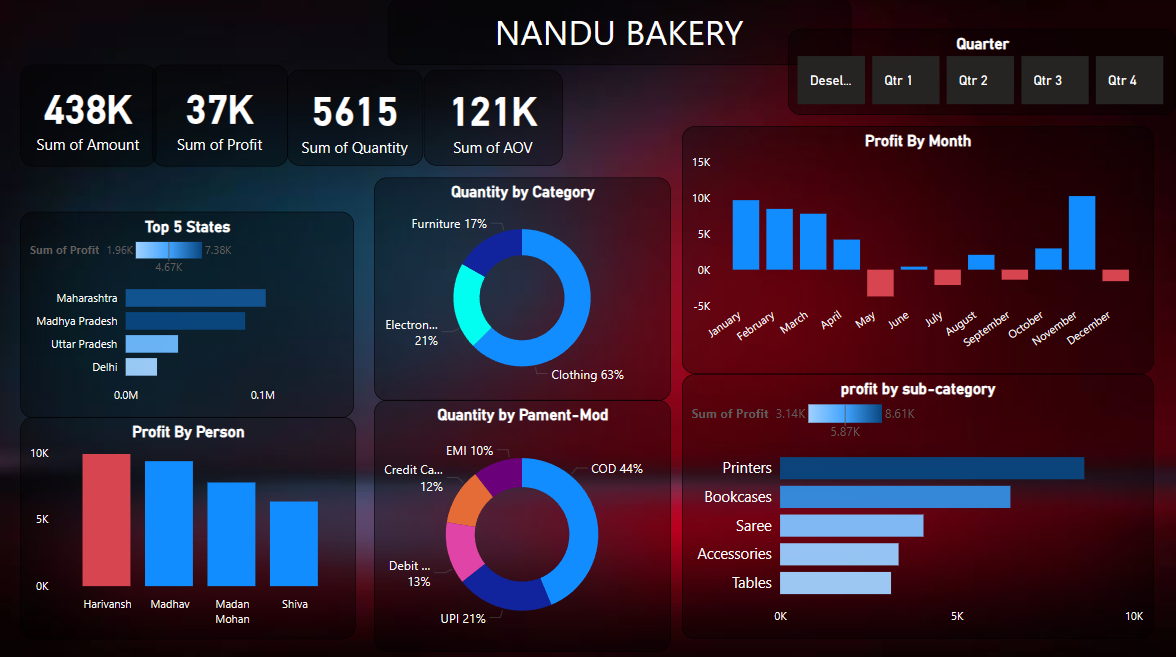

This screenshot's page, from the dashboard's own definition file:
{"tool":"powerbi","page":{"name":"Page 1","canvas":[1280,720],"ordinal":0},"visuals":[{"type":"textbox","box":[448.2,0,502.7,71.6],"z":0},{"type":"clusteredColumnChart","title":"Profit By Month","fields":{"Category":["Orders_bi.Order Date.Variation.Date Hierarchy.Month"],"Y":["Details_bi.Profit"]},"box":[742.4,140.1,512.1,269.3],"z":1000},{"type":"barChart","title":"profit by sub-category","fields":{"Y":["Details_bi.Profit"],"Category":["Details_bi.Sub-Category"]},"box":[742.4,409.3,512.1,287.9],"z":2000},{"type":"donutChart","title":"Quantity by Category","fields":{"Category":["Details_bi.Category"],"Y":["Details_bi.Quantity"]},"box":[409.3,194.5,322.2,242.8],"z":3000},{"type":"donutChart","title":"Quantity by Pament-Mod","fields":{"Y":["Details_bi.Quantity"],"Category":["Details_bi.PaymentMode"]},"box":[409.3,437.3,322.2,273.9],"z":4000},{"type":"card","fields":{"Values":["Details_bi.Amount"]},"box":[24.9,71.6,147.9,110.5],"z":5000},{"type":"card","fields":{"Values":["Details_bi.Profit"]},"box":[166.5,71.6,147.9,110.5],"z":6000},{"type":"card","fields":{"Values":["Details_bi.Quantity"]},"box":[314.4,77.8,147.9,104.3],"z":7000},{"type":"card","fields":{"Values":["Details_bi.AOV"]},"box":[462.2,77.8,151,104.3],"z":8000},{"type":"barChart","title":"Top 5 States","fields":{"Y":["Details_bi.Amount"],"Category":["Orders_bi.State"]},"box":[24.9,231.9,362.6,224.1],"z":9000},{"type":"clusteredColumnChart","title":"Profit By Person","fields":{"Category":["Orders_bi.CustomerName"],"Y":["Details_bi.Amount"]},"box":[24.9,456,364.2,241.2],"z":10000},{"type":"advancedSlicerVisual","fields":{"Values":["Orders_bi.Order Date.Variation.Date Hierarchy.Quarter"]},"box":[857.6,34.2,421.8,93.4],"z":11000}]}

Visuals, with their boxes in screenshot pixels (x1, y1, x2, y2), scaled from the page's 1280x720 canvas onto the 1176x657 screenshot:
textbox: BBox(412, 0, 874, 65)
"Profit By Month" clusteredColumnChart: BBox(682, 128, 1153, 374)
"profit by sub-category" barChart: BBox(682, 373, 1153, 636)
"Quantity by Category" donutChart: BBox(376, 177, 672, 399)
"Quantity by Pament-Mod" donutChart: BBox(376, 399, 672, 649)
card - Details_bi.Amount: BBox(23, 65, 159, 166)
card - Details_bi.Profit: BBox(153, 65, 289, 166)
card - Details_bi.Quantity: BBox(289, 71, 425, 166)
card - Details_bi.AOV: BBox(425, 71, 563, 166)
"Top 5 States" barChart: BBox(23, 212, 356, 416)
"Profit By Person" clusteredColumnChart: BBox(23, 416, 357, 636)
advancedSlicerVisual - Orders_bi.Order Date.Variation.Date Hierarchy.Quarter: BBox(788, 31, 1175, 116)
